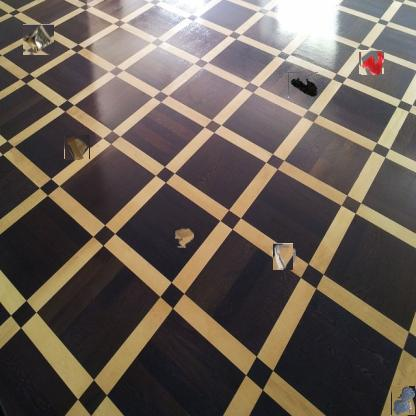dirty: (22, 24, 54, 55), (288, 72, 318, 98), (65, 135, 90, 159), (272, 245, 295, 268), (174, 228, 193, 247)
liquid: (391, 385, 415, 415), (360, 51, 383, 75)
